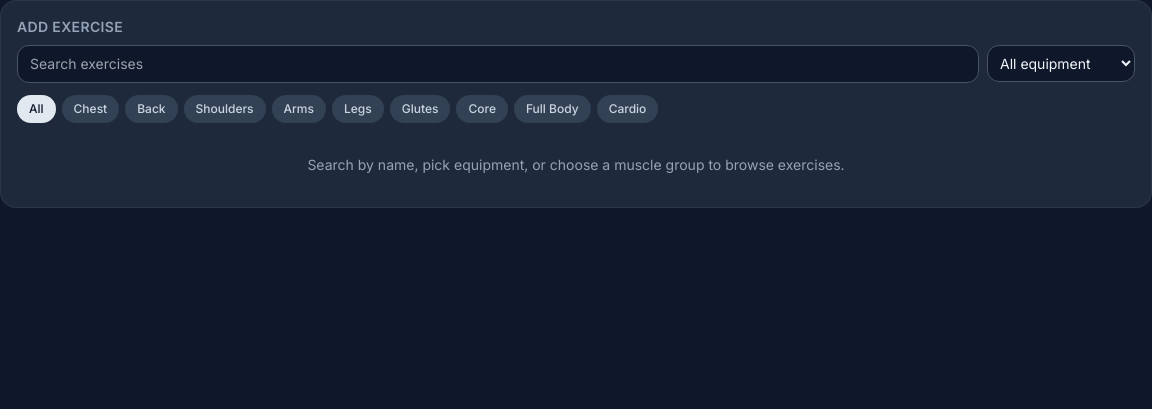
Test: ExerciseSelector commercial-gym catalog › searches the full library and filters it by equipment
Type "bench press" into the search field labelled "Search exercises" at {"x": 498, "y": 64}, box [17,45,979,83]
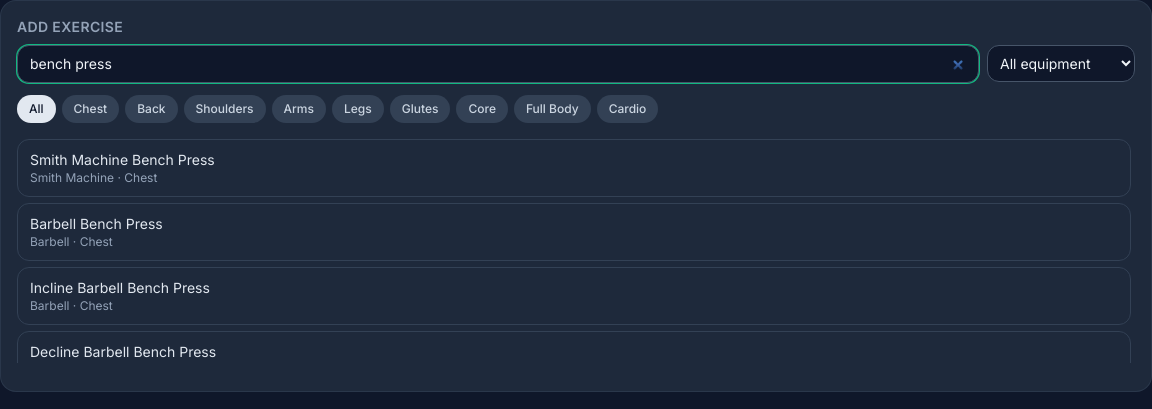
Select "Dumbbell" in the dropdown named "Equipment" at {"x": 1061, "y": 64}, box [987,45,1135,82]
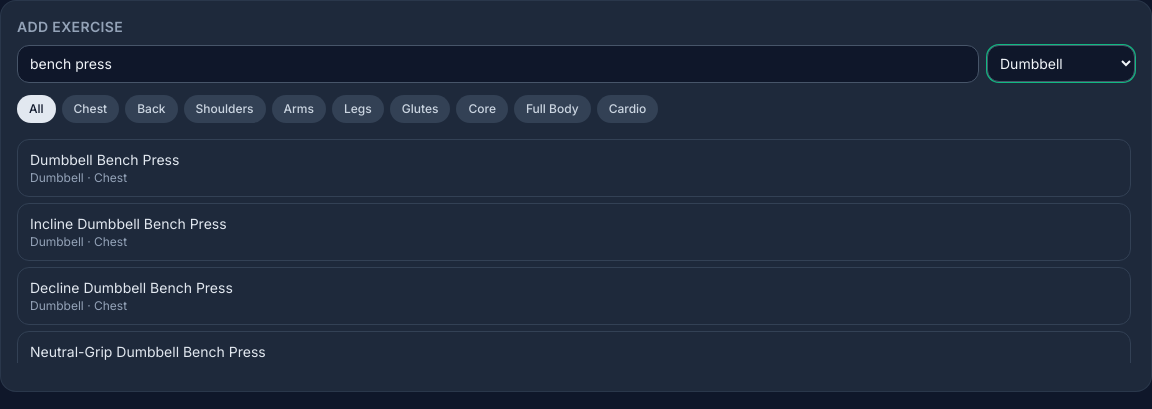
Expected: the button "Dumbbell Bench Press Dumbbell · Chest" is shown, [17,139,1131,197]
Expected: the button "Incline Dumbbell Bench Press Dumbbell · Chest" is shown, [17,203,1131,261]
